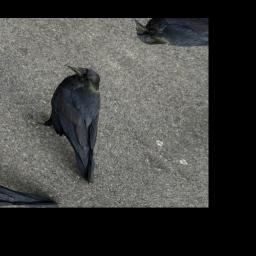Crow: (0, 56, 171, 186)
